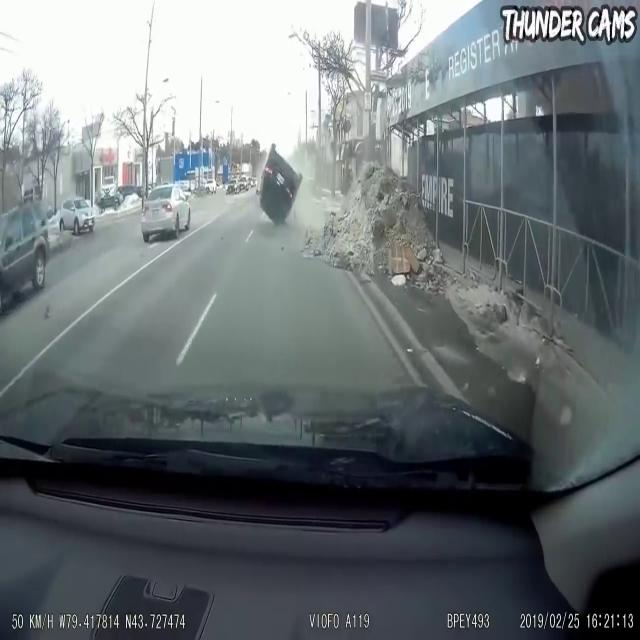accident: (241, 121, 315, 237)
